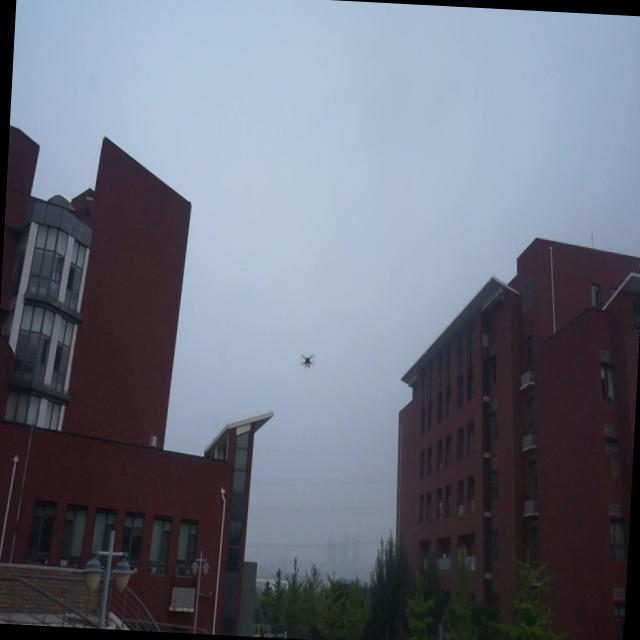drone: (300, 350, 316, 370)
